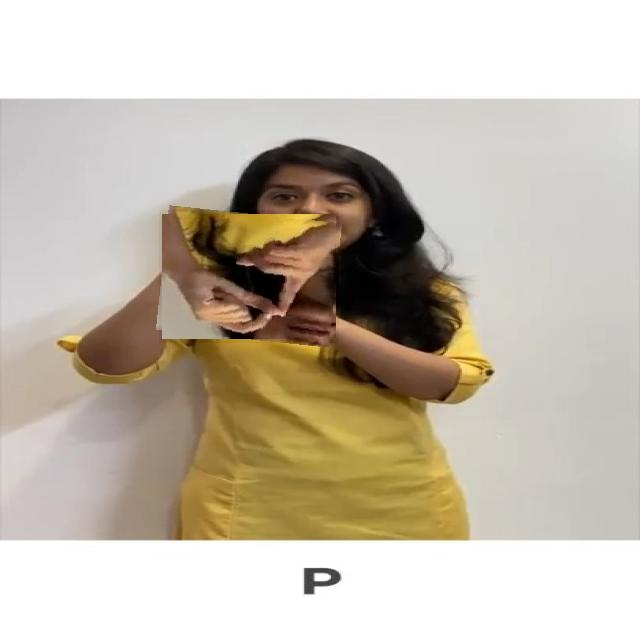P: (159, 210, 339, 343)
